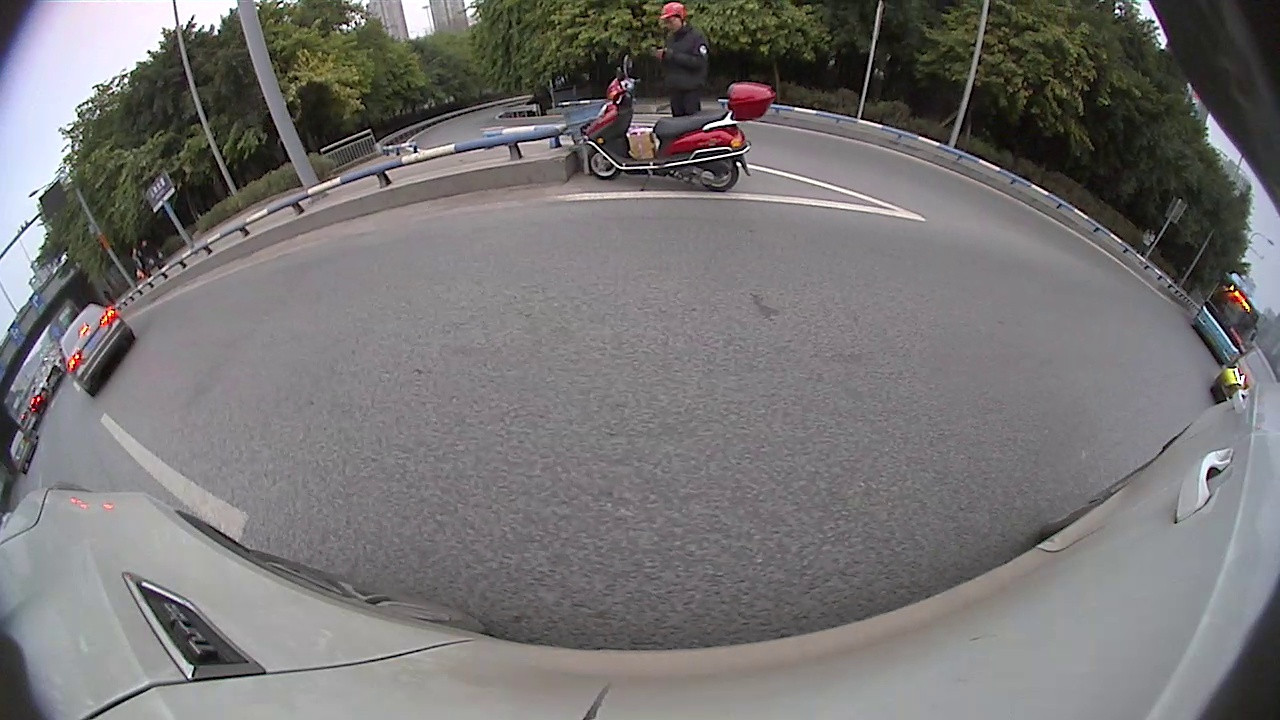car: (2, 234, 227, 457), (572, 142, 665, 209), (159, 238, 279, 285), (422, 166, 515, 214), (528, 150, 585, 193), (656, 155, 707, 195)
front: (166, 285, 215, 343), (240, 252, 271, 284), (504, 184, 514, 201)
rear: (476, 188, 491, 210)
